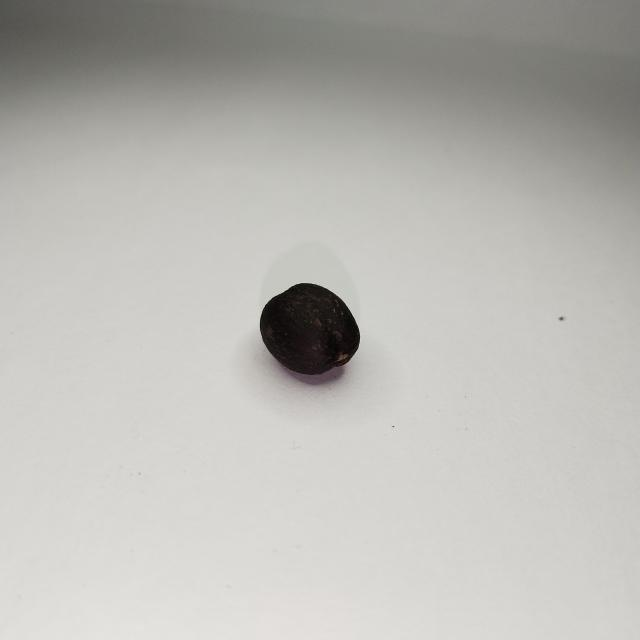Danado: (258, 284, 362, 378)
